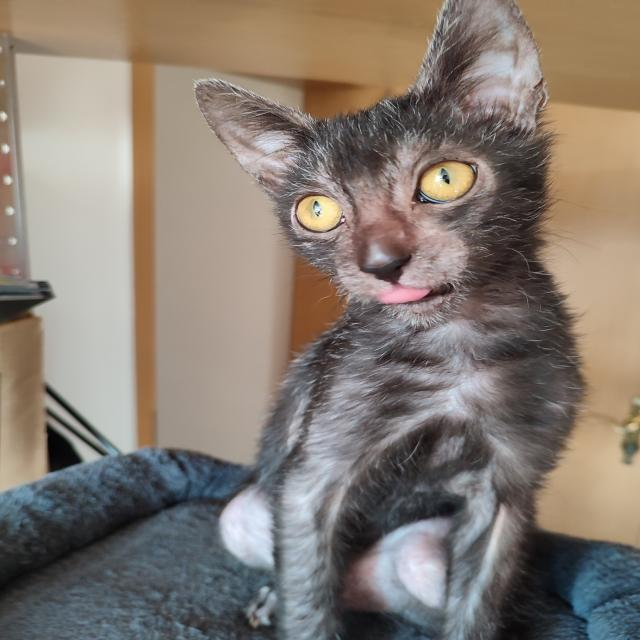Lykoi: (188, 0, 591, 640)
